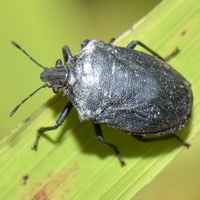insect: (10, 39, 192, 165)
